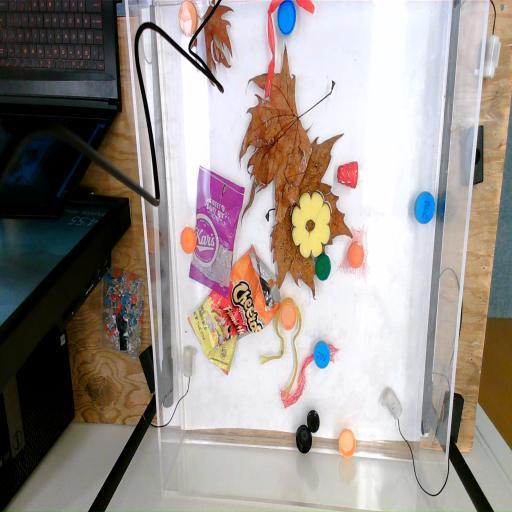Bottle Cap: (412, 190, 437, 225), (179, 0, 198, 37), (277, 0, 296, 34), (312, 338, 332, 370), (336, 429, 358, 458), (294, 424, 312, 454), (348, 240, 365, 269), (316, 252, 332, 282), (280, 302, 296, 331), (180, 226, 196, 254), (306, 408, 320, 434)
Cone Cap: (336, 158, 360, 194)
Leaf: (232, 40, 338, 226), (268, 130, 354, 287), (198, 0, 236, 82)
Netting: (280, 342, 342, 412), (336, 221, 370, 275)
Plastic Bag: (186, 242, 282, 378), (187, 162, 246, 303)
Plastic Strand: (250, 292, 310, 397), (260, 0, 316, 103)
Sponge: (290, 190, 334, 262)
